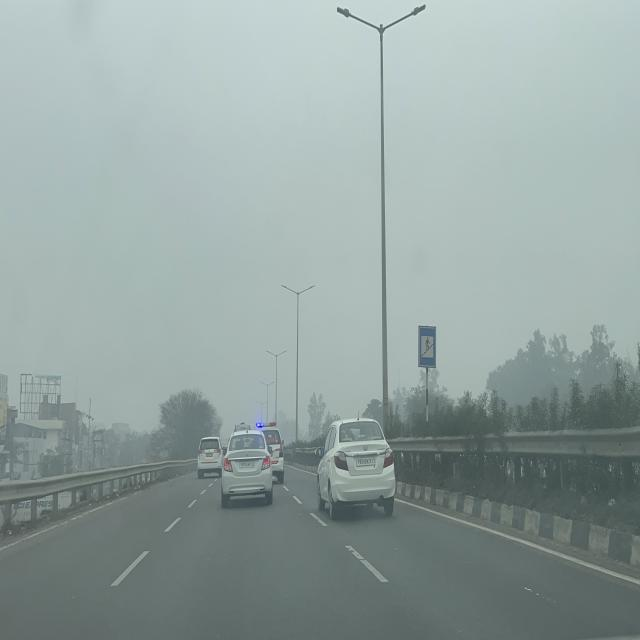INFORMATION: (418, 325, 436, 368)
